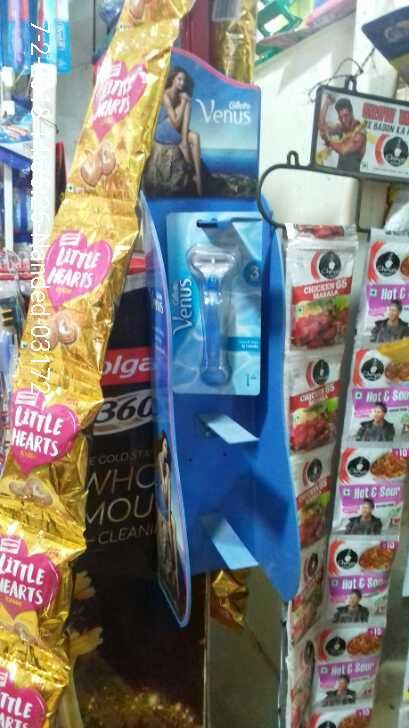venus: (154, 211, 266, 396)
